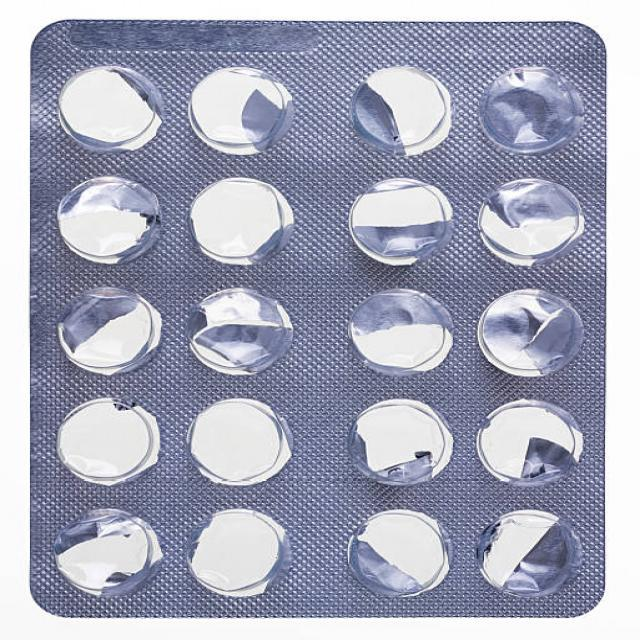Empty: (179, 281, 304, 387), (337, 175, 463, 279), (53, 499, 170, 608), (53, 56, 175, 160), (186, 55, 301, 161), (50, 282, 170, 383), (346, 507, 459, 611), (187, 172, 304, 272), (474, 504, 588, 606), (474, 399, 593, 495), (344, 58, 458, 158), (187, 504, 293, 610), (474, 286, 586, 386), (51, 398, 170, 492), (343, 288, 459, 384), (482, 58, 585, 166), (476, 176, 588, 272), (186, 398, 296, 494), (59, 175, 167, 269), (346, 398, 454, 490)
